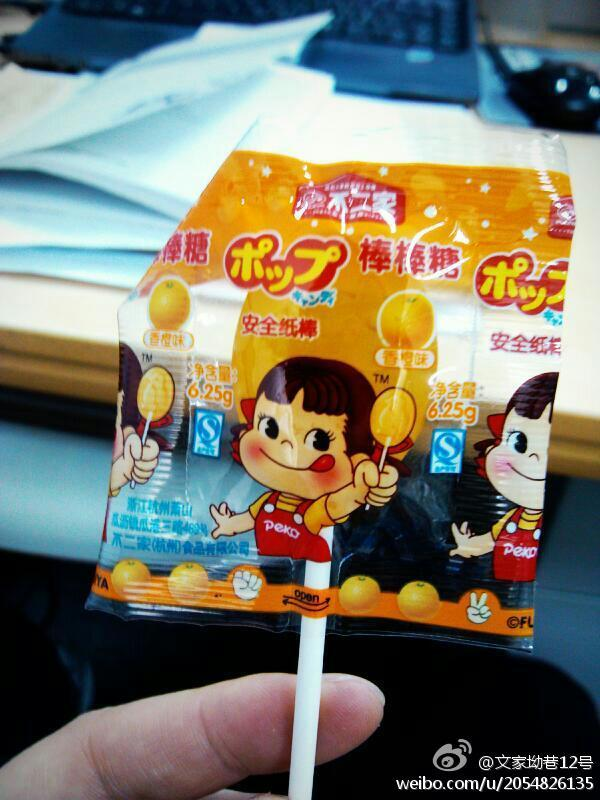FUJIYA: (224, 356, 388, 498)
